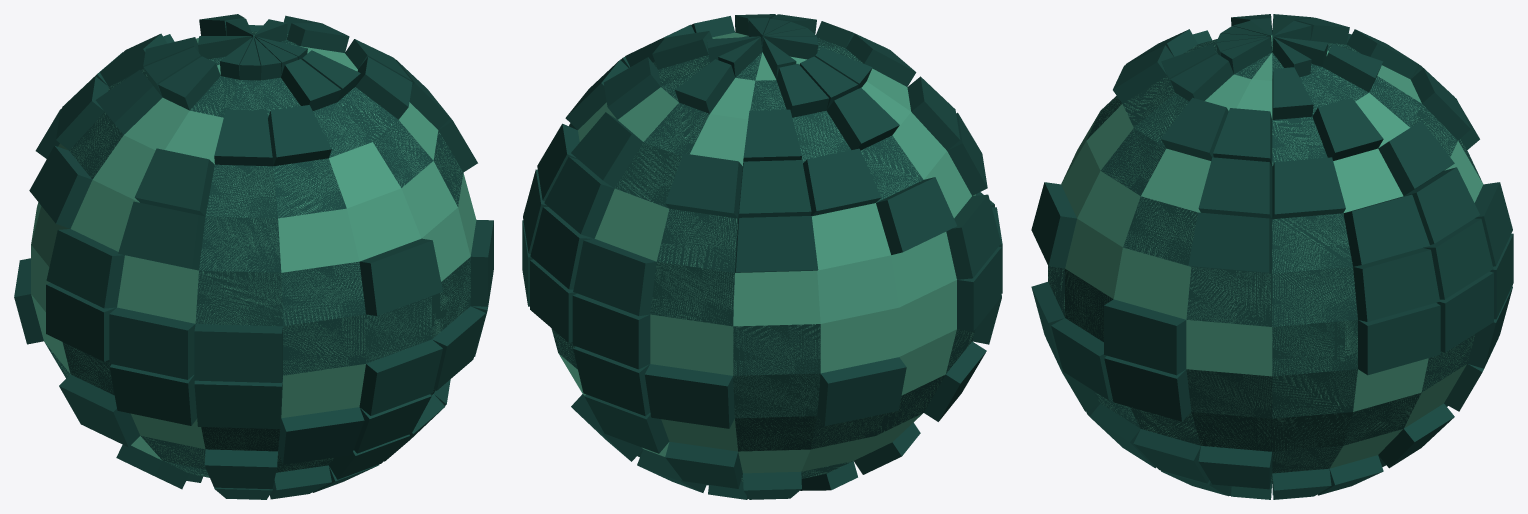
File: Low_Poly_Planet_02.fbx
3 renders of one model, left to right at view 1: azimuth 30°, elevation 25°; view 2: azimuth 150°, elevation 25°; view 3: azimuth 270°, elevation 25°, orthographic.
Visible parts, largest first — view 1: Planet_02; view 2: Planet_02; view 3: Planet_02.
Boxes of the visible parts, x1,y1,x2,y2 form: Planet_02: (14,14,493,499); Planet_02: (522,14,1002,499); Planet_02: (1031,14,1513,499).
Size of the model in its own units: 313 by 326 by 323.
